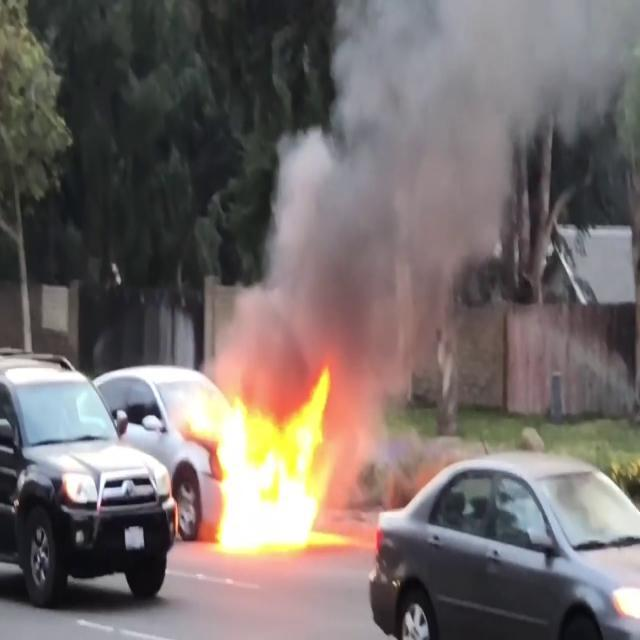Fire: (204, 360, 350, 560)
Smoke: (230, 0, 634, 374)
